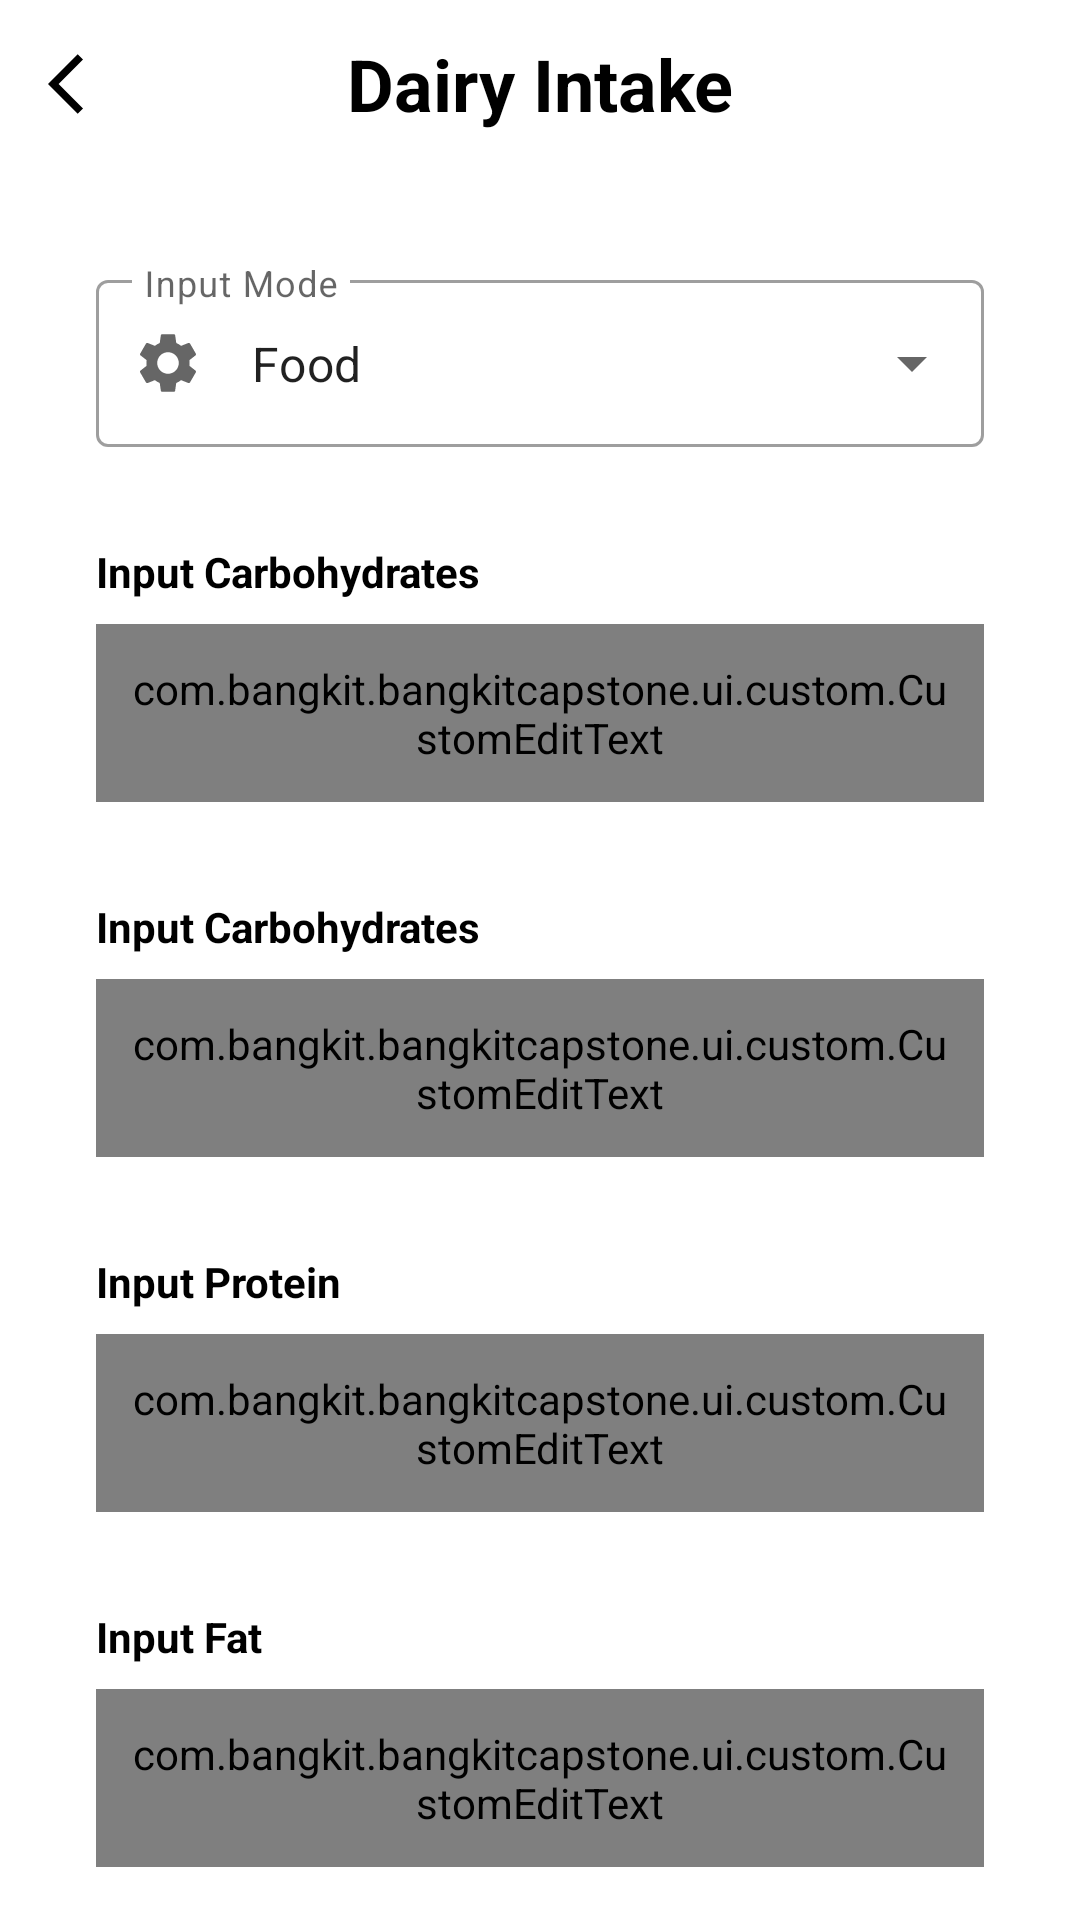

Named icons in this screenshot (1080×1920) and their centers, (x=x, y=y):
Back Button: (x=65, y=84)
